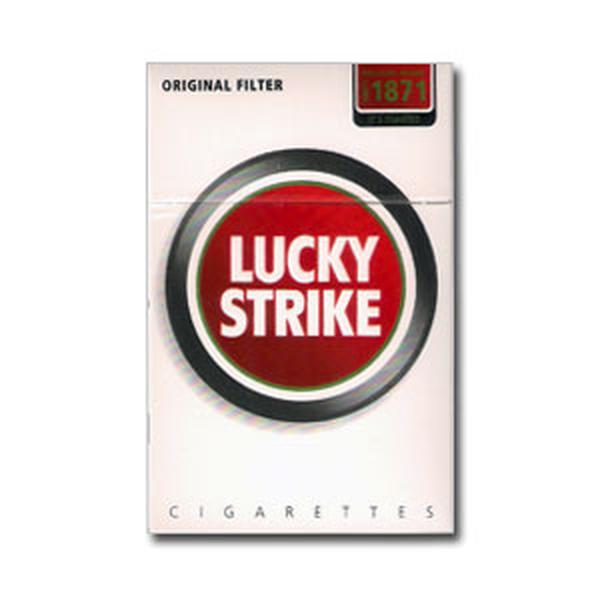lucky_strike_red: (150, 62, 452, 536)
